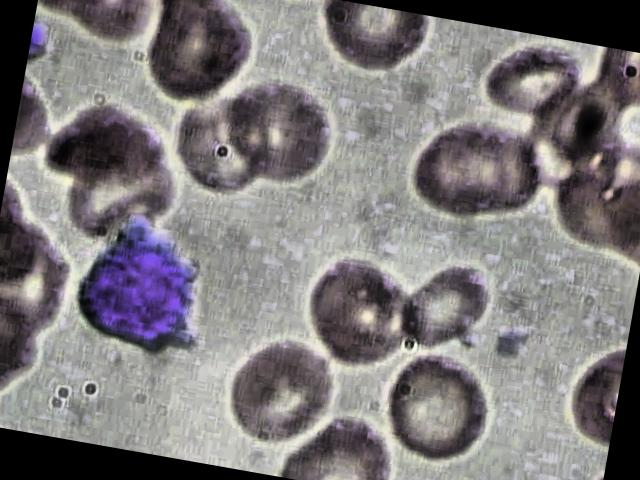RBC: (298, 246, 424, 374), (38, 77, 175, 194), (372, 341, 498, 468), (213, 67, 339, 194), (216, 328, 342, 454), (395, 106, 521, 232), (164, 80, 286, 202), (129, 0, 261, 109), (469, 26, 587, 123), (397, 250, 495, 354), (311, 0, 424, 84), (277, 405, 402, 480)
WBC: (51, 199, 234, 374)
